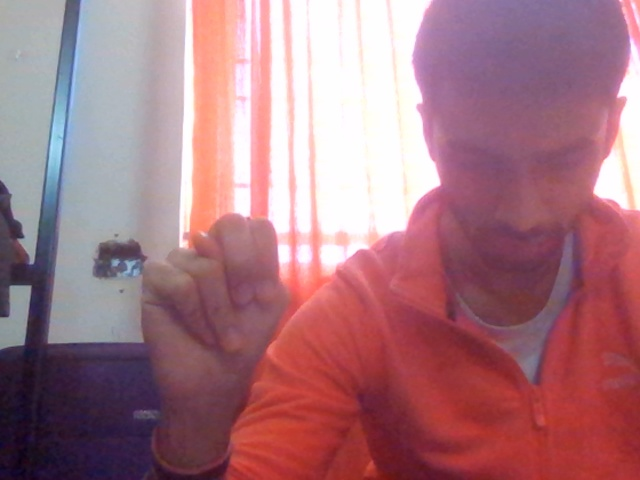N: (118, 174, 333, 454)
